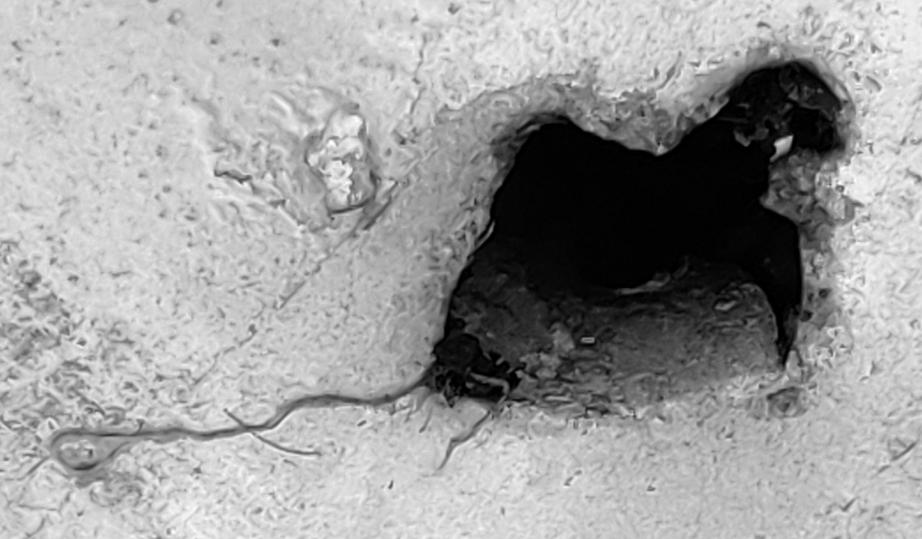crack: (1, 0, 922, 539)
